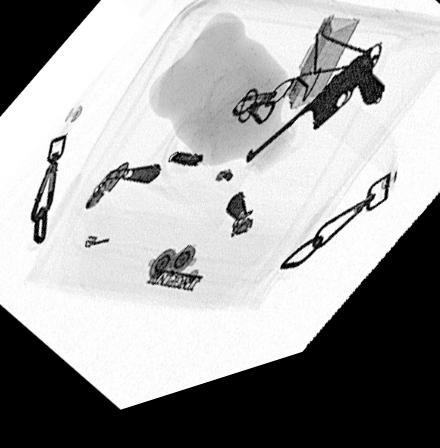Gun: (245, 66, 386, 179)
